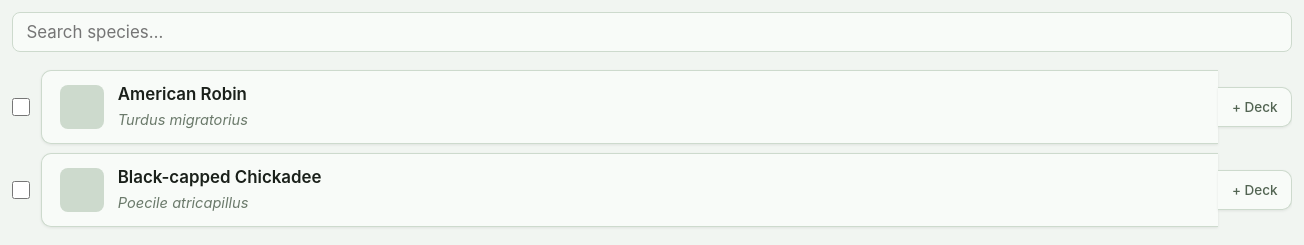
Test case: Explore page › filters species by scientific name when searching
The image size is (1304, 245).
Type "poecile" into the field with placeholder "Search species…". click: (652, 32)
box: [12,12,1292,52]
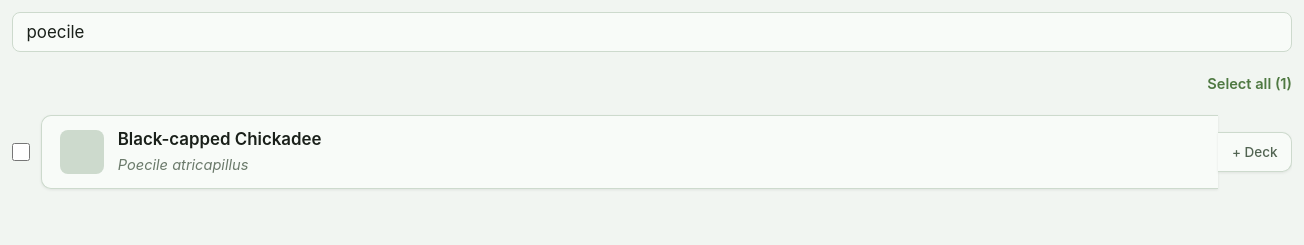
Expected: the text "Black-capped Chickadee" is shown, [118,129,322,149]
Now the link "American Robin" is gone
